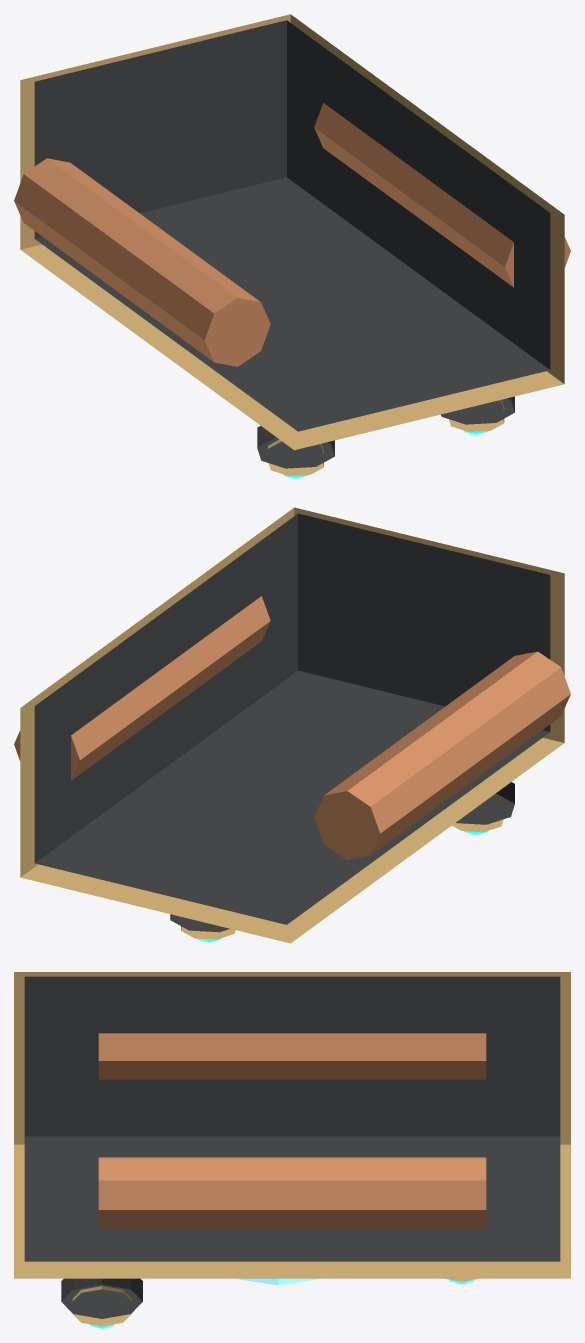
The model's file is SM_Gnome_AetherTek_PowerNexus_FuelCell_01_LOD2.glb.
The picture shows the model from 3 angles, top to bottom: view 1: azimuth 30°, elevation 25°; view 2: azimuth 150°, elevation 25°; view 3: azimuth 270°, elevation 25°; orthographic projection.
Visible parts, largest first — view 1: Housing_DarkIron_SimplifiedBody, SideCapacitor_-25_LowTube, Brass_Collar_Block, SideCapacitor_25_LowTube, HardpointSocket_LeftPowerRoute_DarkIronSocketCup, HardpointSocket_RightPowerRoute_DarkIronSocketCup; view 2: Housing_DarkIron_SimplifiedBody, SideCapacitor_-25_LowTube, Brass_Collar_Block, SideCapacitor_25_LowTube, HardpointSocket_LeftPowerRoute_DarkIronSocketCup; view 3: Housing_DarkIron_SimplifiedBody, SideCapacitor_25_LowTube, Brass_Collar_Block, SideCapacitor_-25_LowTube, HardpointSocket_RightPowerRoute_DarkIronSocketCup, HardpointSocket_RightPowerRoute_BrassContactRing.
Boxes of the visible parts, <box> form: Housing_DarkIron_SimplifiedBody: <box>34,20,550,431</box>; SideCapacitor_-25_LowTube: <box>14,158,270,366</box>; Brass_Collar_Block: <box>20,14,564,450</box>; SideCapacitor_25_LowTube: <box>314,103,570,287</box>; HardpointSocket_LeftPowerRoute_DarkIronSocketCup: <box>257,426,334,468</box>; HardpointSocket_RightPowerRoute_DarkIronSocketCup: <box>441,396,514,424</box>; Housing_DarkIron_SimplifiedBody: <box>34,513,550,924</box>; SideCapacitor_-25_LowTube: <box>314,651,570,859</box>; Brass_Collar_Block: <box>20,507,564,943</box>; SideCapacitor_25_LowTube: <box>14,596,270,780</box>; HardpointSocket_LeftPowerRoute_DarkIronSocketCup: <box>456,782,514,824</box>; Housing_DarkIron_SimplifiedBody: <box>24,976,560,1261</box>; SideCapacitor_25_LowTube: <box>98,1157,486,1229</box>; Brass_Collar_Block: <box>14,972,570,1278</box>; SideCapacitor_-25_LowTube: <box>98,1033,486,1079</box>; HardpointSocket_RightPowerRoute_DarkIronSocketCup: <box>61,1278,142,1318</box>; HardpointSocket_RightPowerRoute_BrassContactRing: <box>72,1286,131,1326</box>.
Bounding box in the file's own units: 61 × 37.4 × 79.
